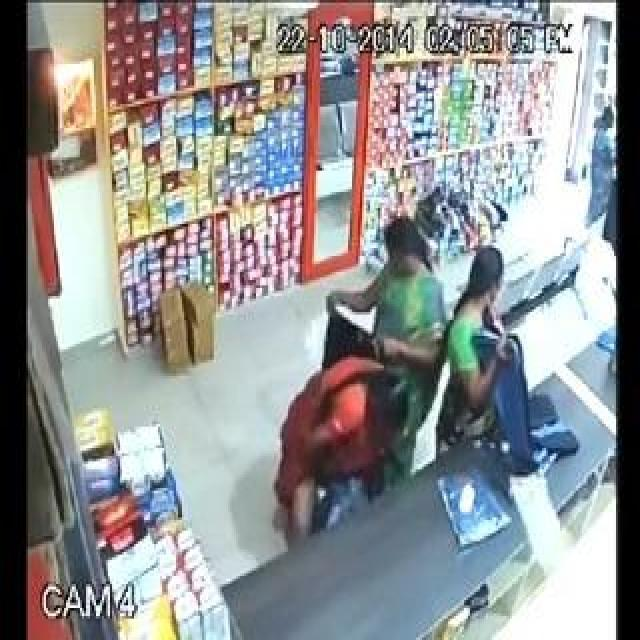Shoplifting: (270, 335, 423, 546)
